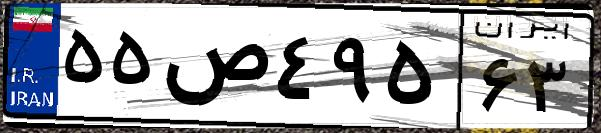3: (525, 38, 570, 115)
4: (270, 28, 330, 110)
5: (385, 28, 445, 110), (57, 26, 110, 100), (110, 28, 158, 98)
6: (475, 38, 525, 113)
9: (330, 28, 385, 110)
ص: (158, 20, 270, 120)
